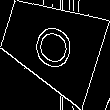O_W: (26, 15, 77, 74)
